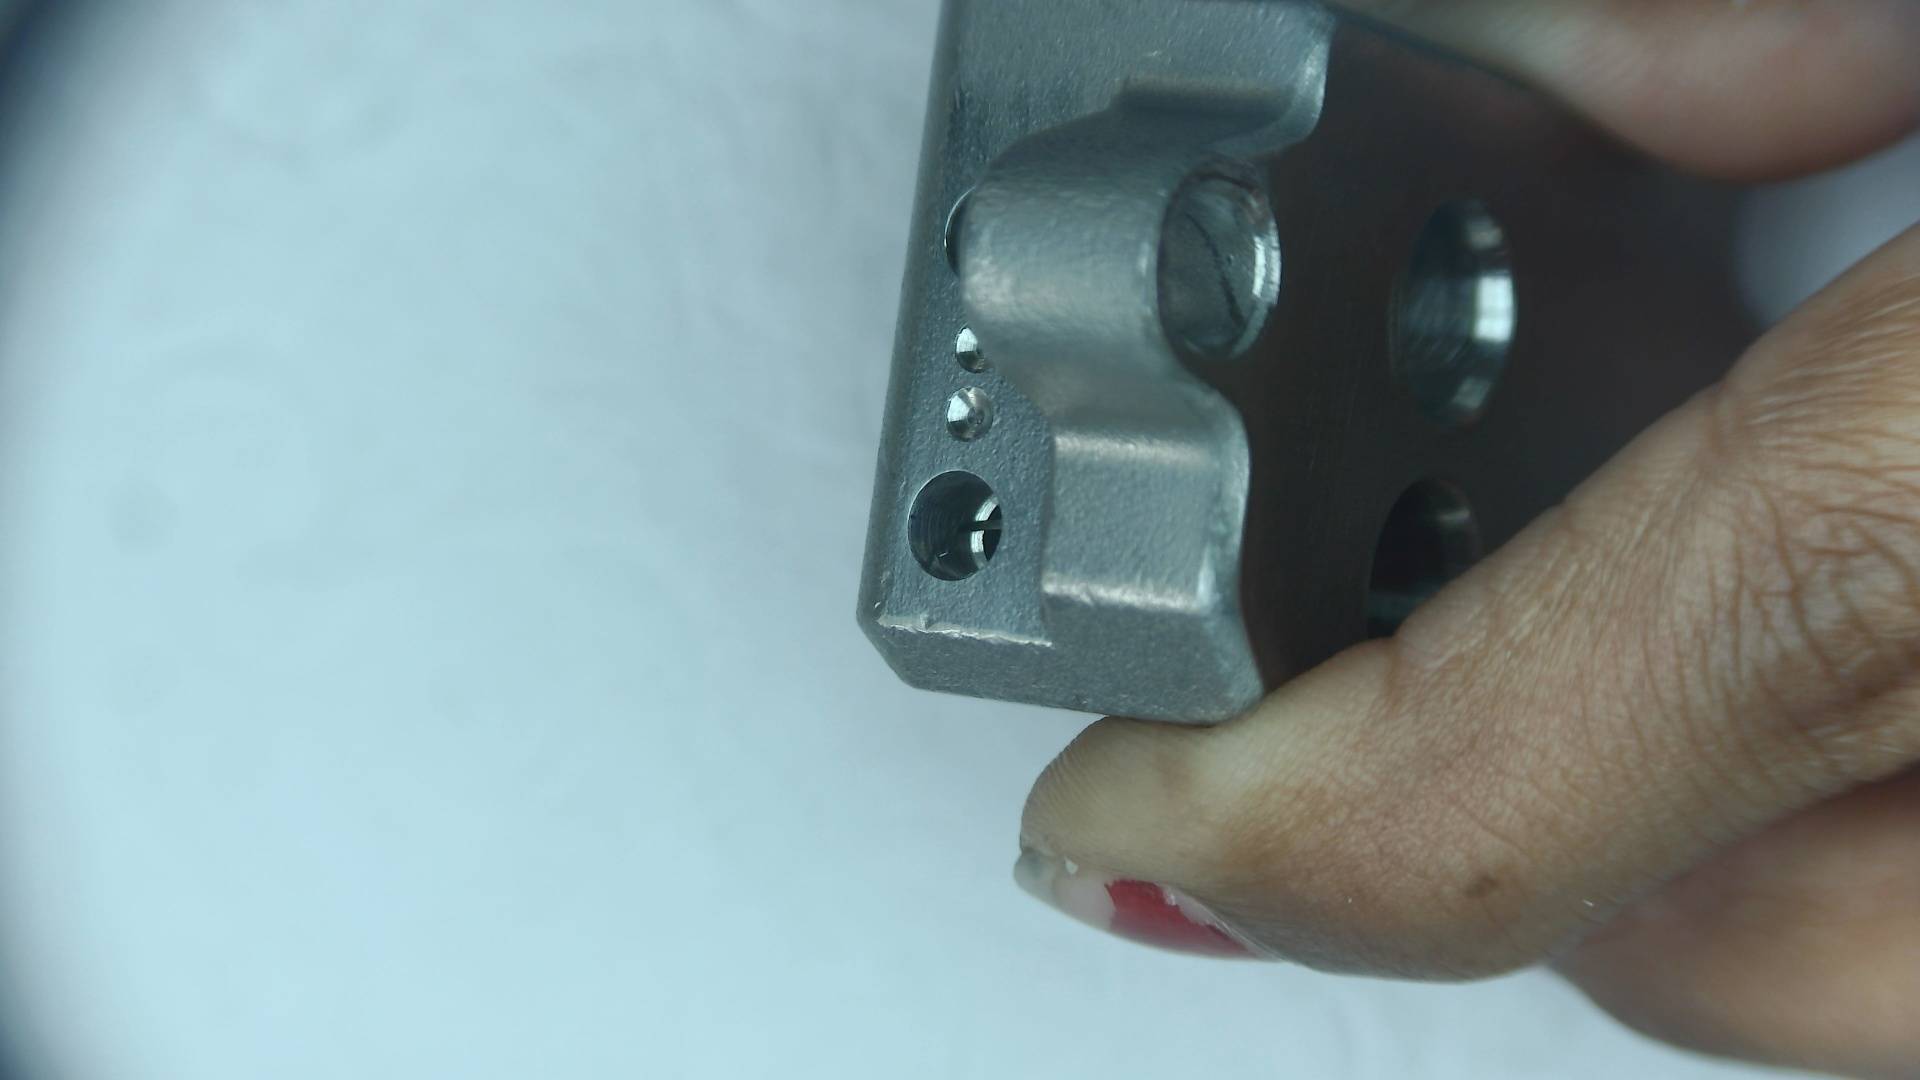burr: (1845, 1030, 1920, 1080)
